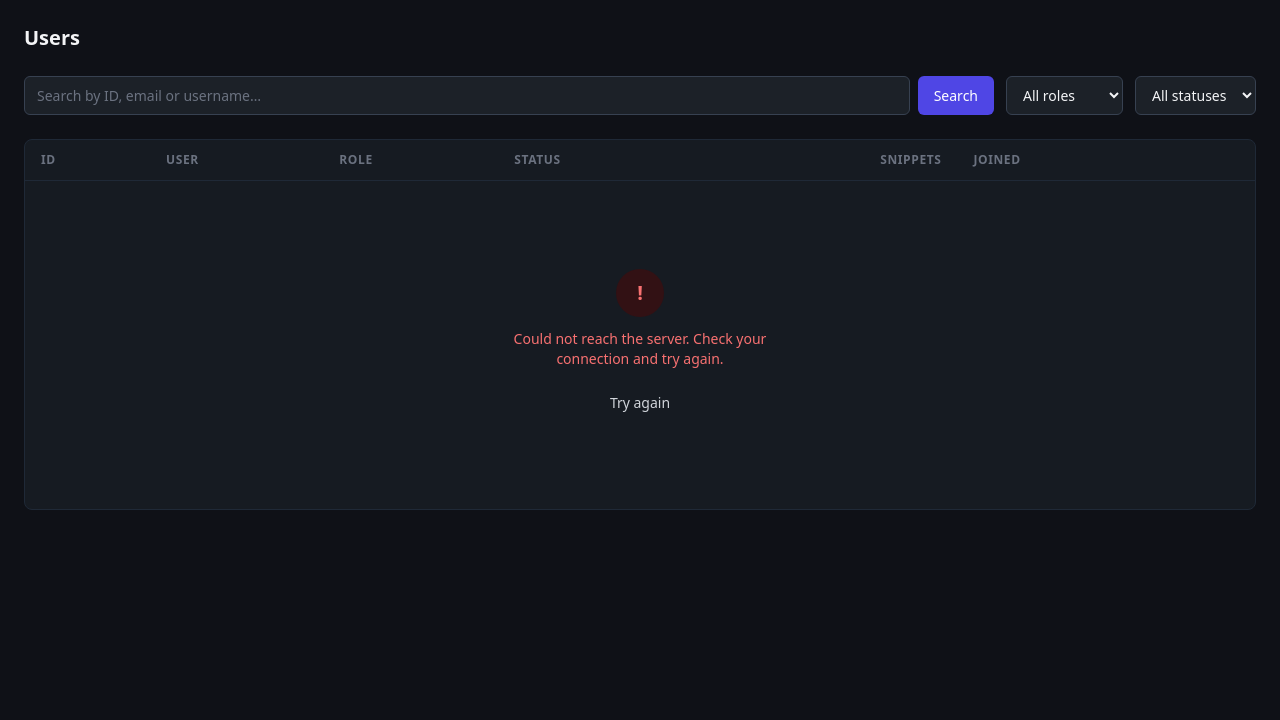
Test: AdminUsersPage › clicking "Try again" after an error re-fetches
Click the button "Try again". click: click(640, 403)
box: x1=594 y1=385 x2=686 y2=421
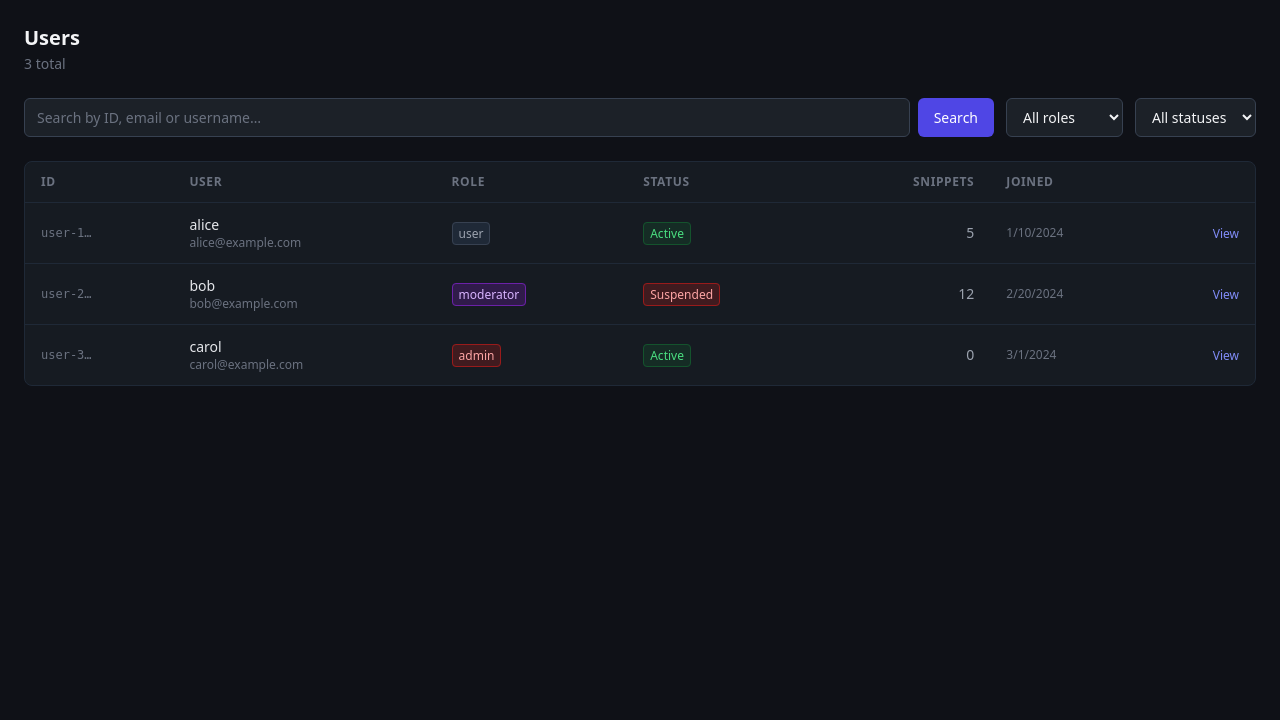
Result: the text "alice" is shown at x1=189 y1=215 x2=219 y2=234
